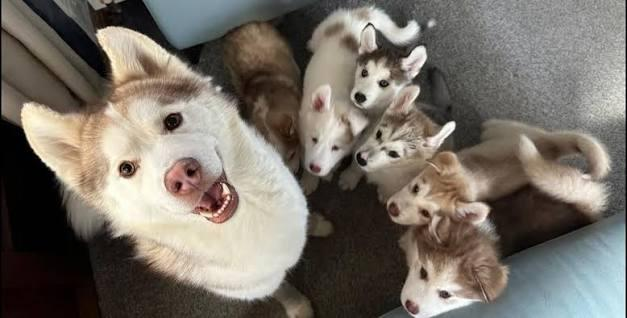adult_dog: (19, 24, 317, 318)
puppy-dog: (399, 179, 607, 318), (381, 120, 609, 232), (298, 9, 386, 183), (339, 68, 456, 191), (222, 21, 303, 179), (350, 18, 429, 133)
